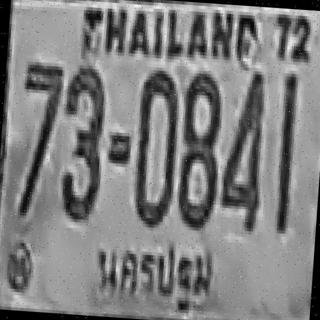N00: (131, 66, 178, 225)
N01: (273, 73, 296, 215)
N03: (57, 64, 107, 220)
N04: (217, 68, 267, 230)
N07: (14, 59, 63, 212), (16, 59, 63, 170)
N08: (175, 70, 222, 228)
P28: (82, 229, 218, 318)
